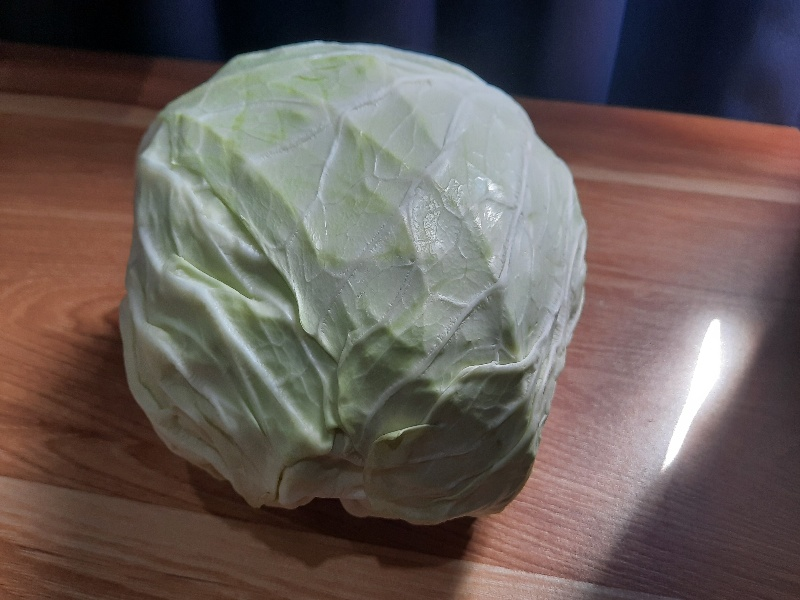vege: (105, 38, 604, 553)
